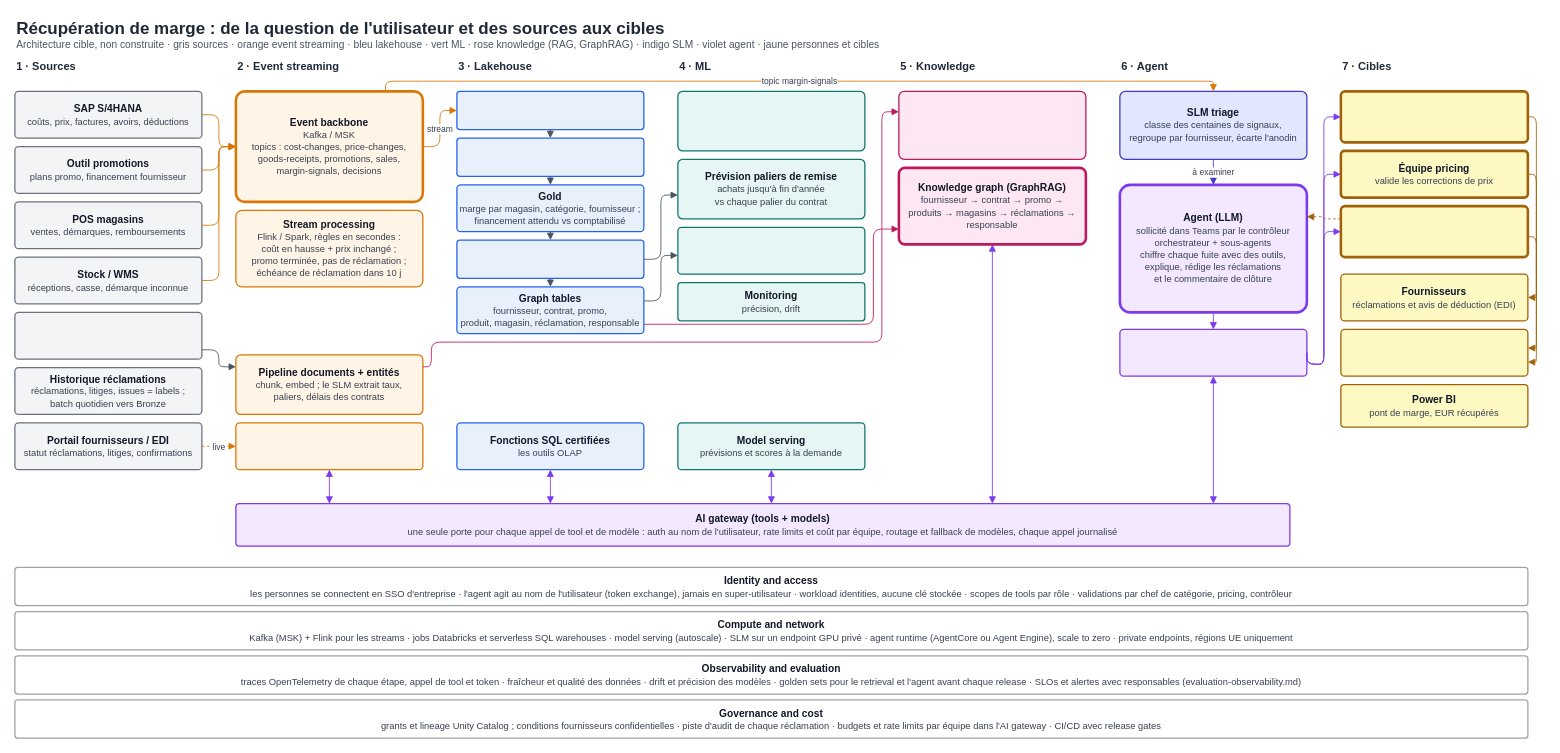
Image size: 1560x753. Some labels were removed from this diagram. Here are the shapes that lost their labels. From the top down, the centre of each, then its label:
[550,110]: Bronze événements et fichiers bruts
[771,120]: Prévision de marge marge attendue sans fuites : la référence
[992,125]: Vector index (RAG) contrats, accords promo, politique prix et réclamations
[1434,116]: Chef de catégorie valide les réclamations fournisseurs
[550,157]: Silver nettoyé, conformé
[771,250]: Scores d'anomalie dérive de marge, casse, remboursements
[1434,231]: Contrôleur financier valide les provisions ; commentaire de marge à la clôture
[550,259]: Feature tables offline + online
[108,335]: Contrats remises, accords promo, avenants (PDF)
[1213,352]: Guardrails contrôle des chiffres, clause citée, pas de réclamation sans preuve
[1434,352]: SAP (system of record) réclamations, conditions de prix, provisions
[329,446]: API gateway lectures live : SAP, portail fournisseurs
